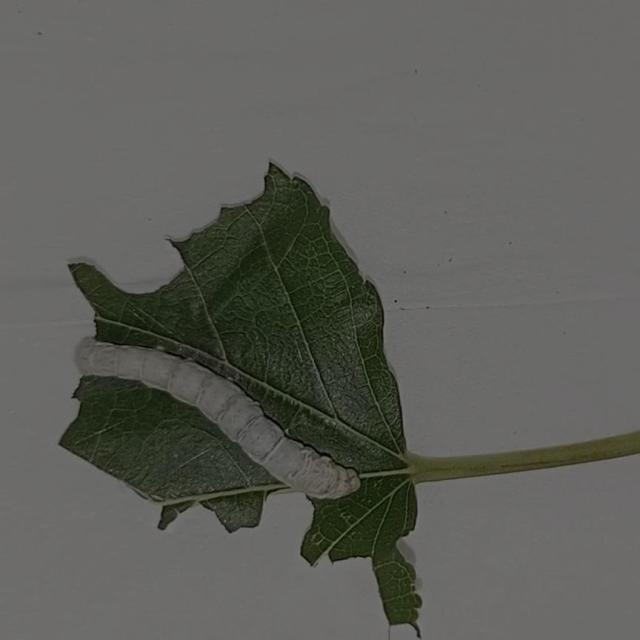Healthy: (56, 276, 396, 539)
